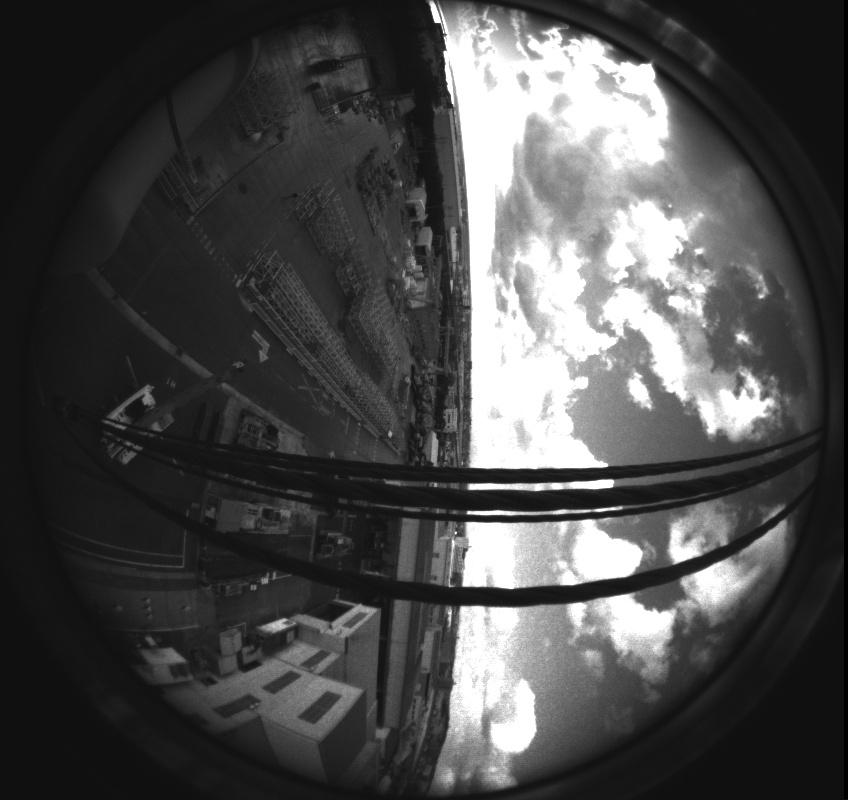rope: (8, 382, 846, 620)
